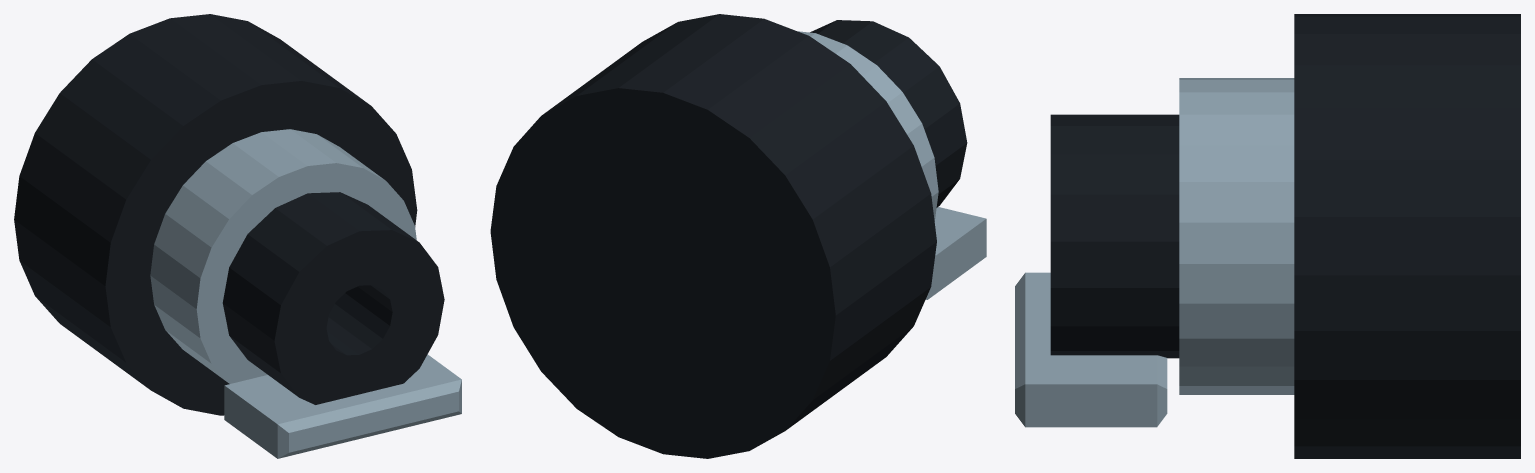
The model's file is NailgunBlue_Normal_Contact.obj.
3 renders of one model, left to right at view 1: azimuth 30°, elevation 25°; view 2: azimuth 150°, elevation 25°; view 3: azimuth 270°, elevation 25°, orthographic. The views are drawn at different scales.
Visible parts, largest first — view 1: FrameBlack, MachinedSteel; view 2: FrameBlack, MachinedSteel; view 3: FrameBlack, MachinedSteel.
Boxes of the visible parts, x1,y1,x2,y2 form: FrameBlack: (14, 14, 444, 415); MachinedSteel: (150, 129, 461, 458); FrameBlack: (490, 14, 967, 458); MachinedSteel: (798, 31, 986, 299); FrameBlack: (1050, 14, 1520, 458); MachinedSteel: (1015, 78, 1294, 427).
Size of the model in its own units: 0.132 by 0.132 by 0.1495.
